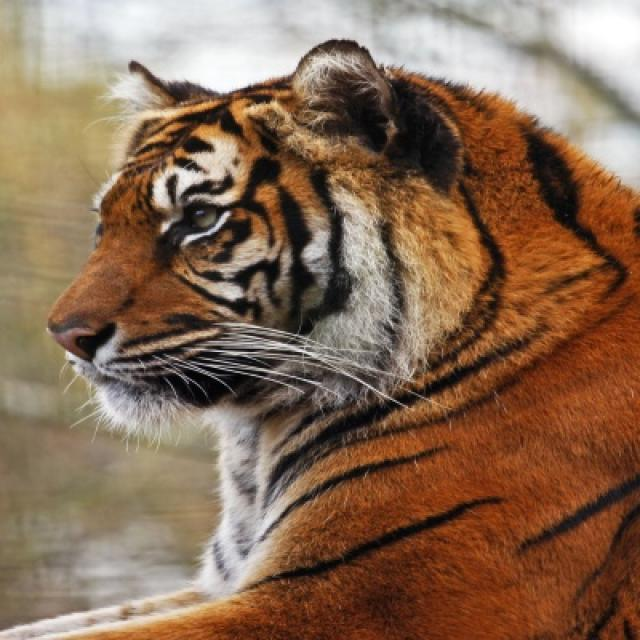Tiger: (4, 39, 636, 638)
